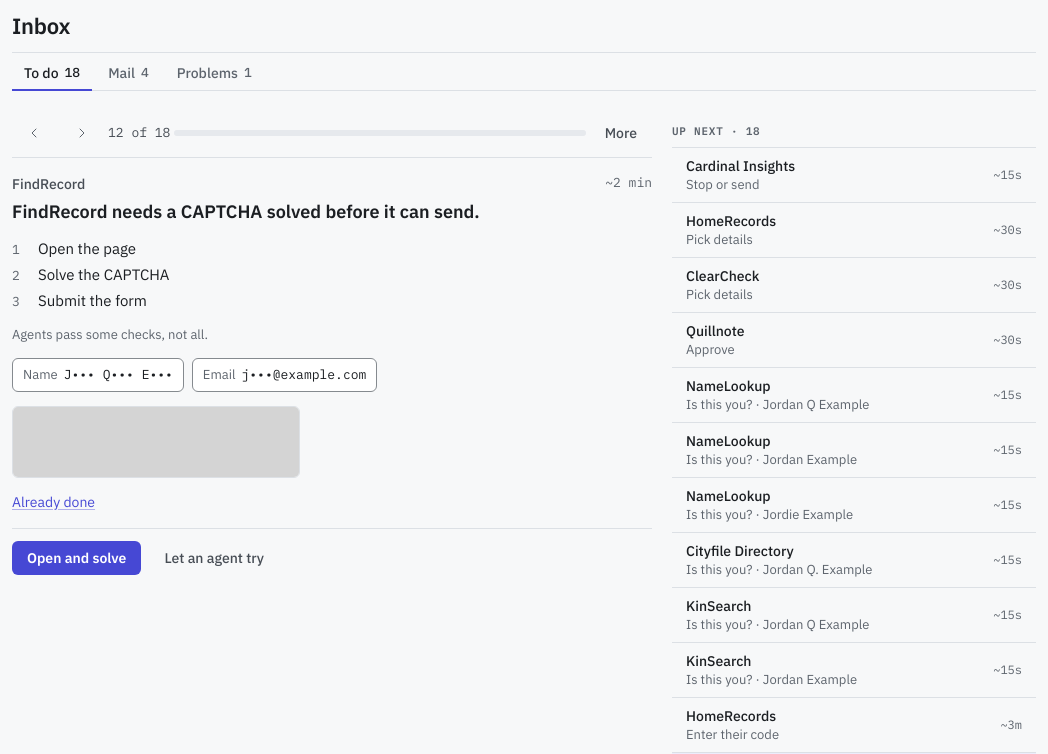
Scenario: letting an agent try a check › keeps Already done as a link that leads to the question
Click the button "Already done".
click(54, 502)  # box [12,492,95,512]
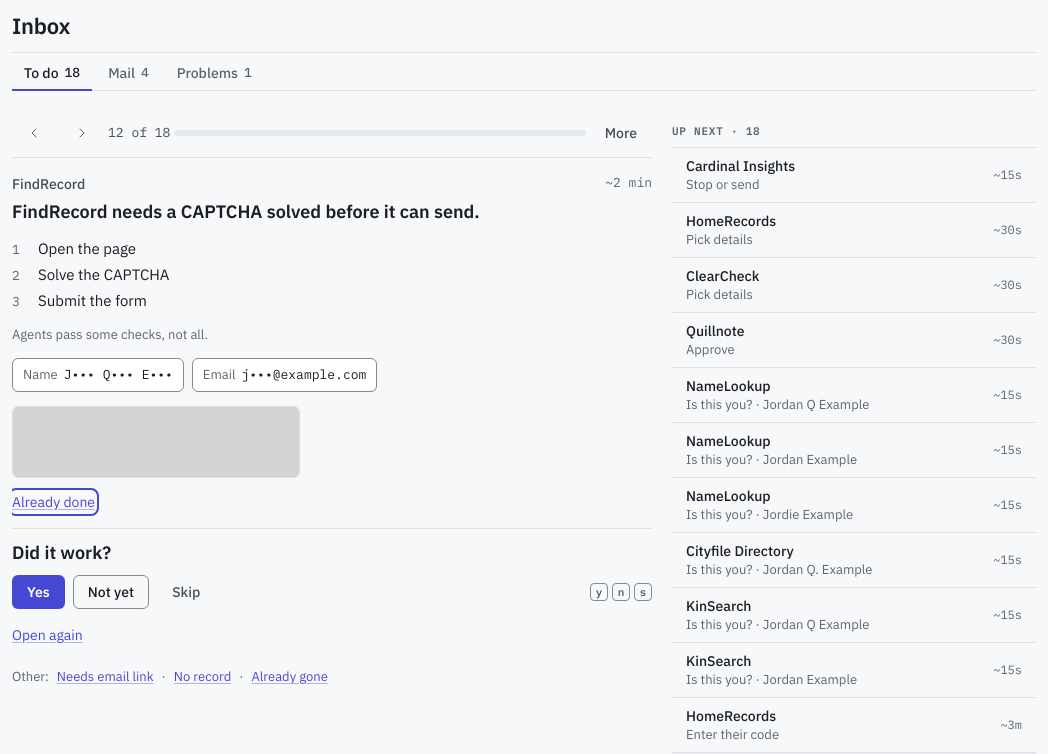
Expected: the text "Did it work?" is shown, [12,541,111,564]
